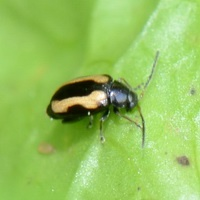insect: (47, 51, 158, 147)
